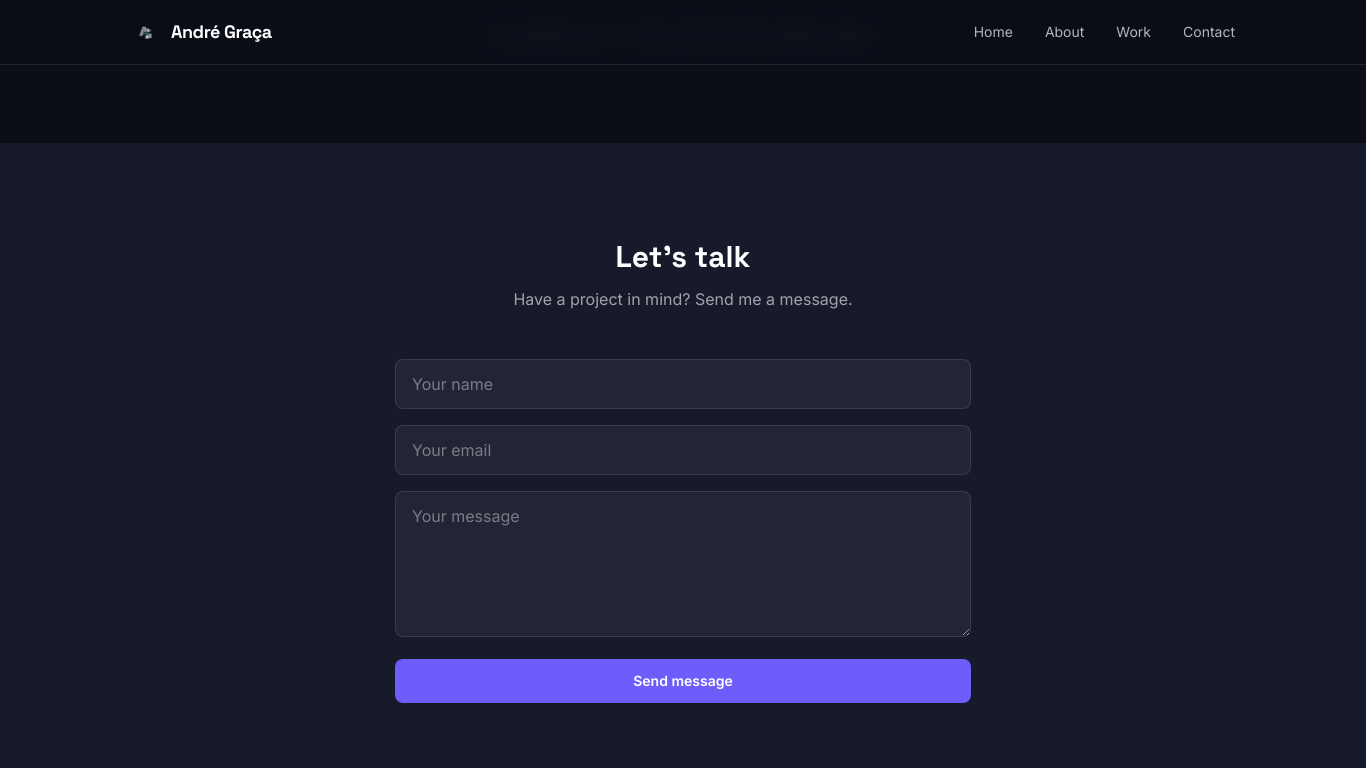
Test: Home › shows an error message when contact submission fails
(page scrolled)
Type "Jane Doe" into the field with placeholder "Your name".
click(683, 384); type("Jane Doe")  # box [395,359,971,409]
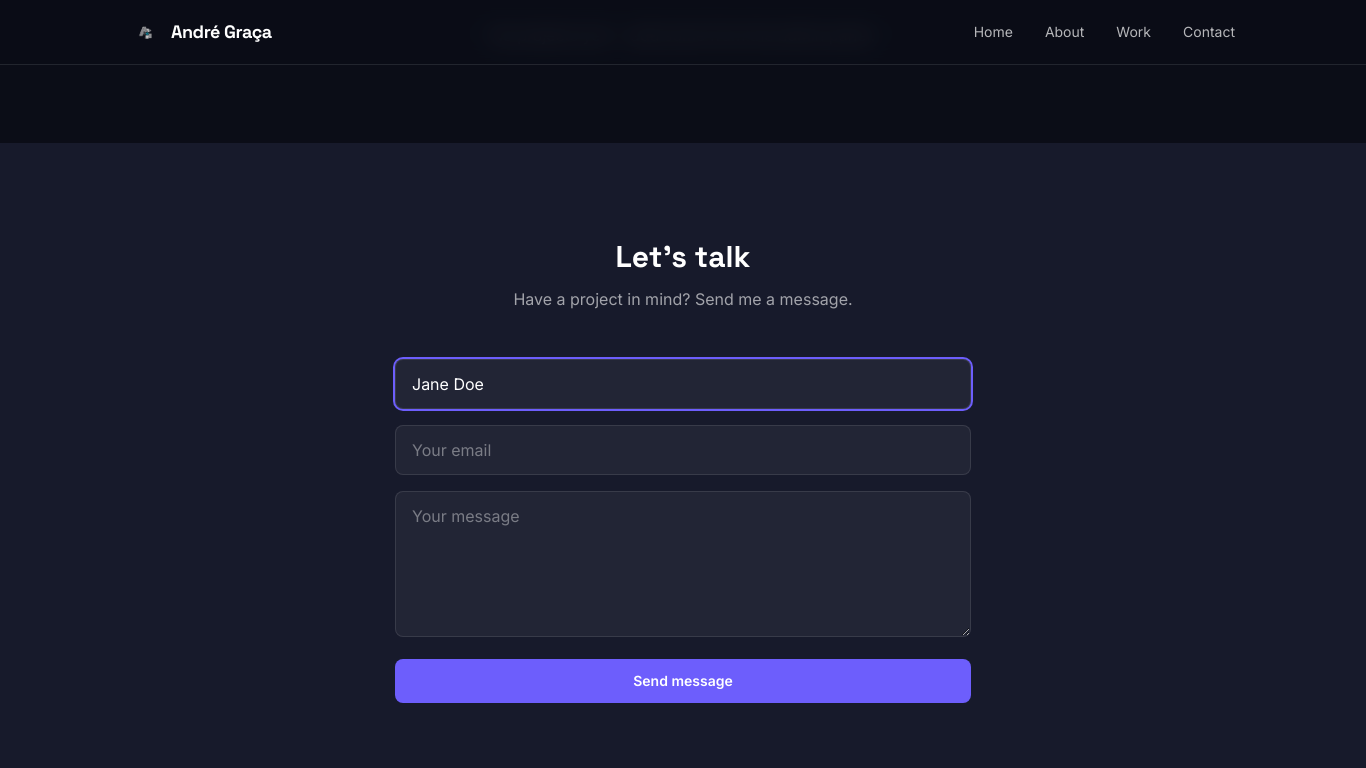
Type "jane@example.com" into the field with placeholder "Your email".
click(683, 450); type("jane@example.com")  # box [395,425,971,475]
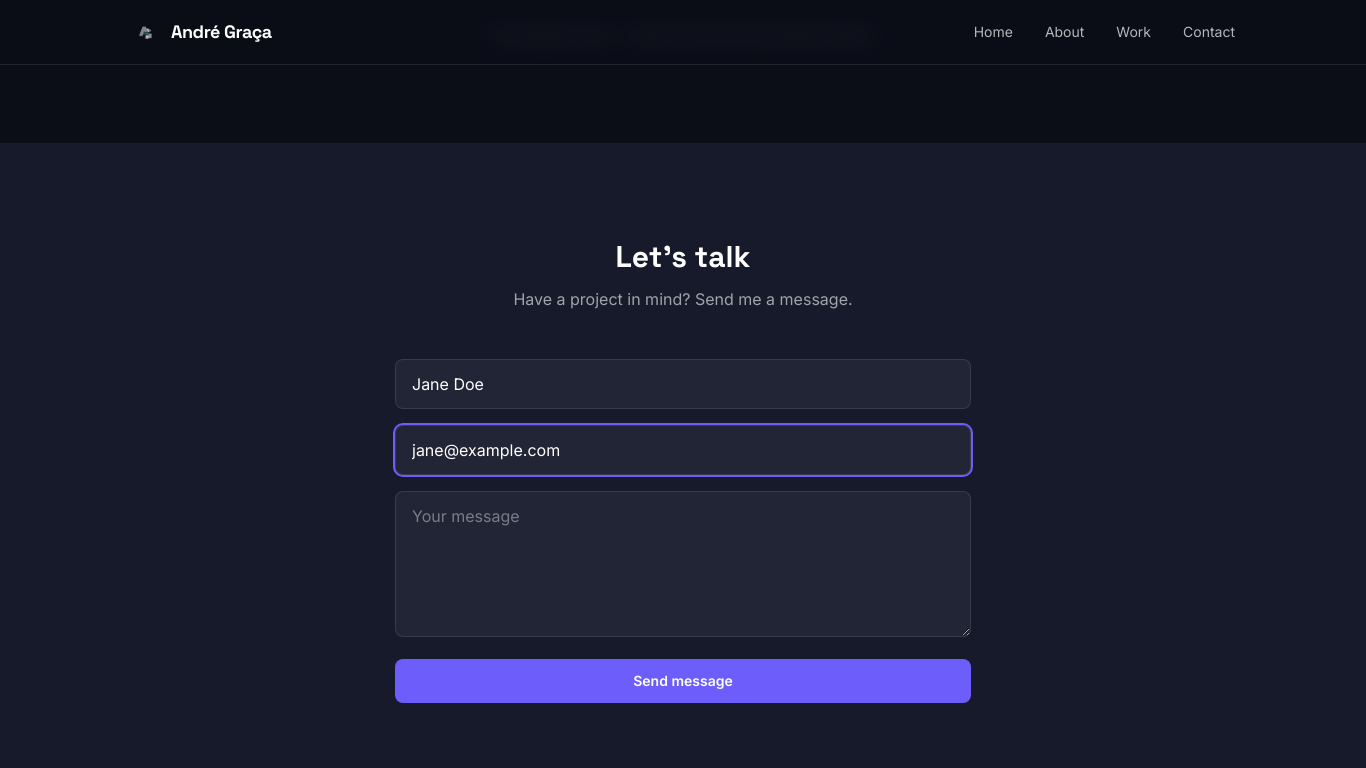
Type "Hello there" into the text box with placeholder "Your message".
click(683, 564); type("Hello there")  # box [395,491,971,637]
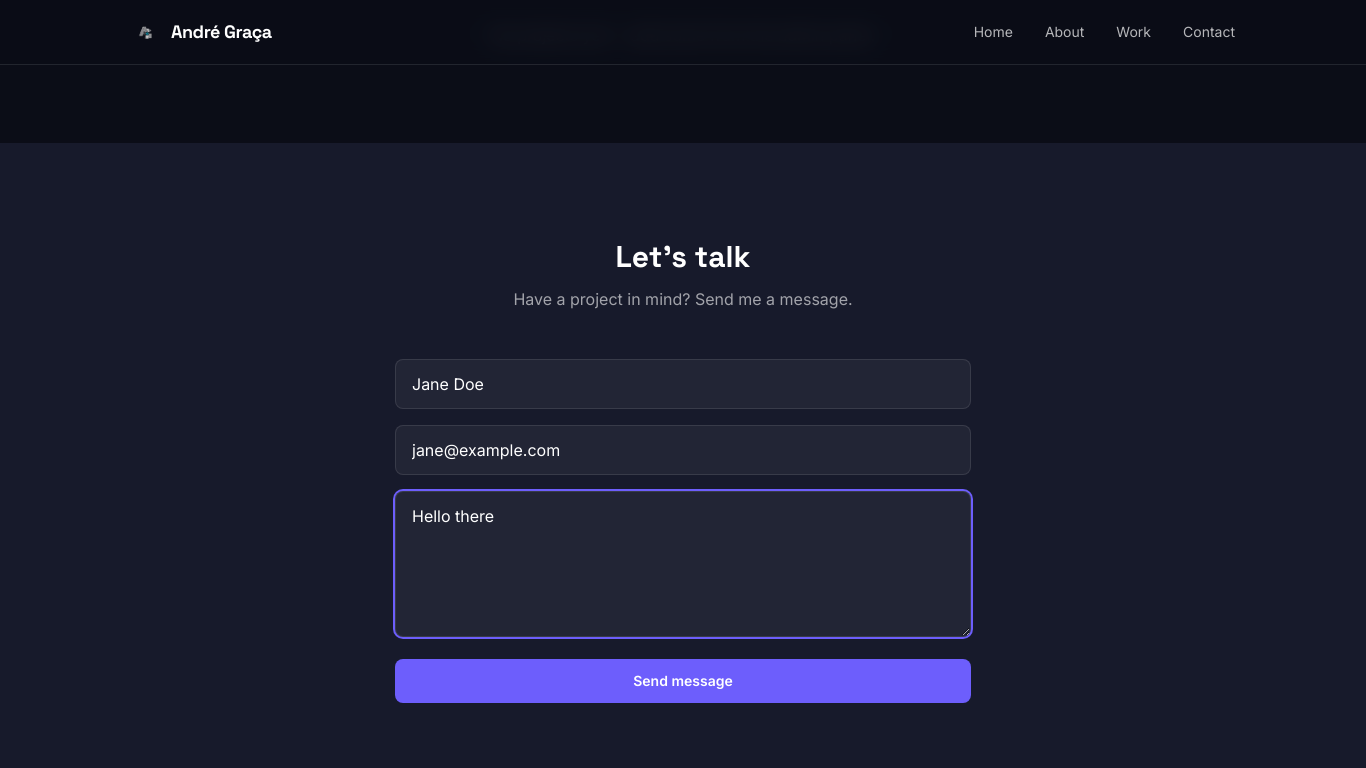
Click the button "Send message".
click(683, 681)  # box [395,659,971,703]
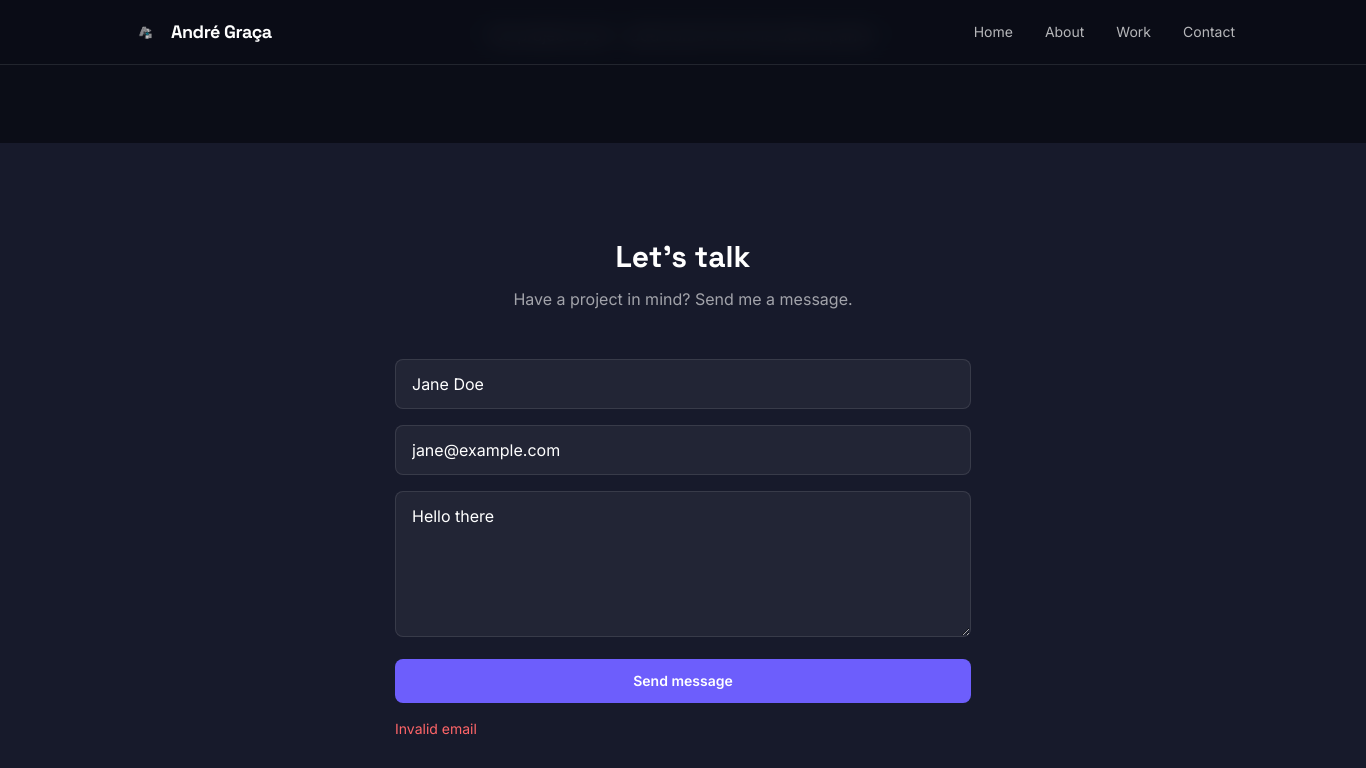
Expected: the text "Invalid email" is shown, [395,720,477,737]
